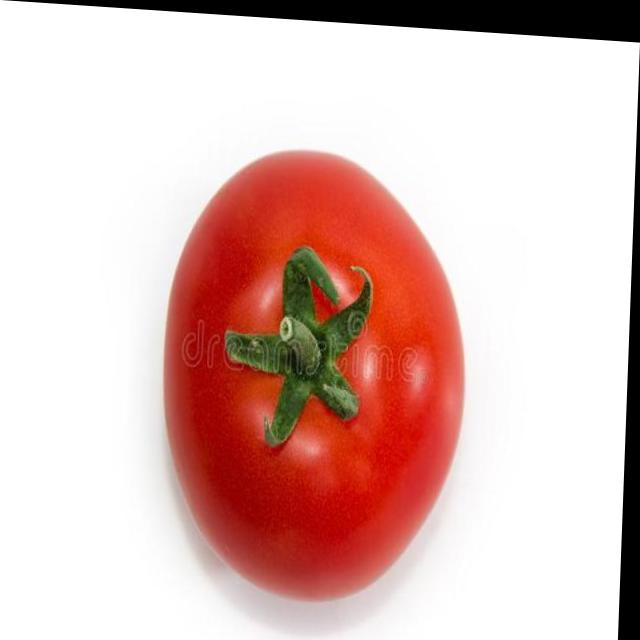kirmizi: (145, 96, 463, 624)
